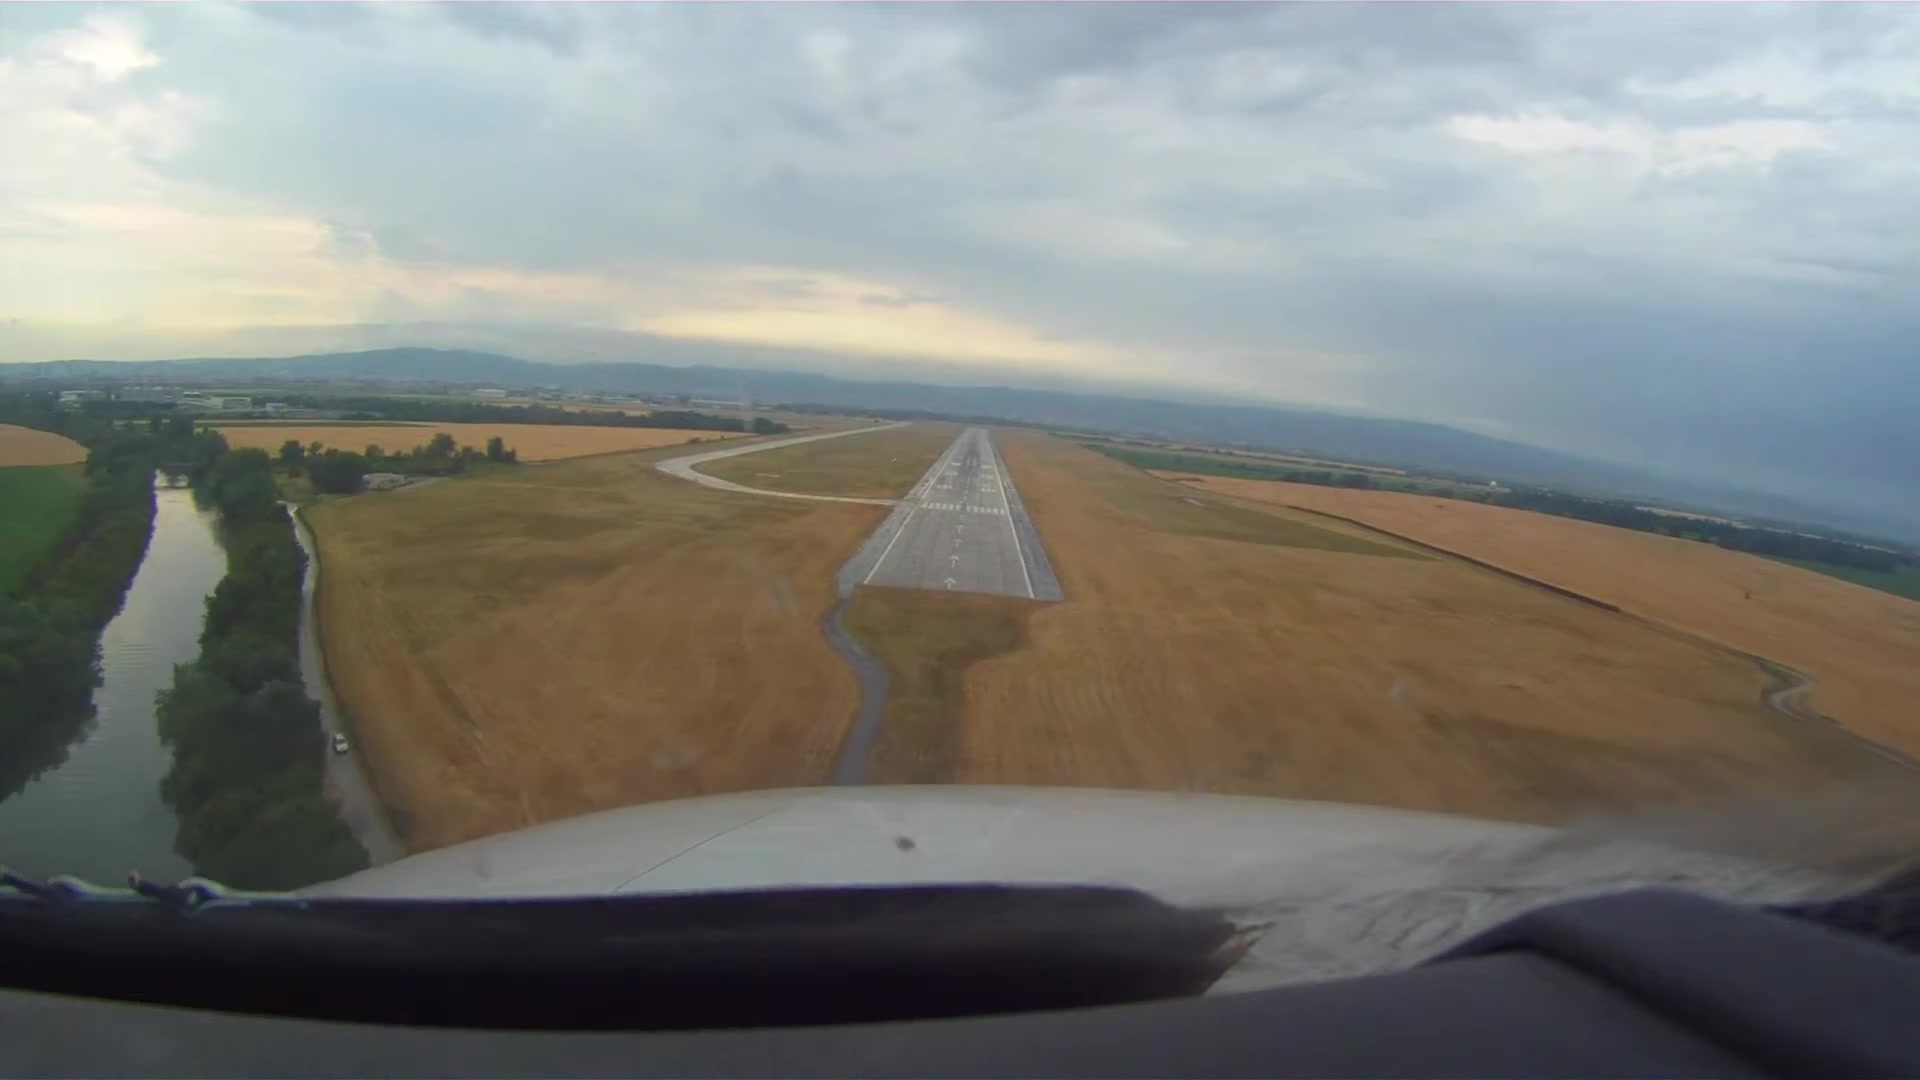entrance: (916, 498, 1010, 516)
runway: (843, 425, 1064, 603)
